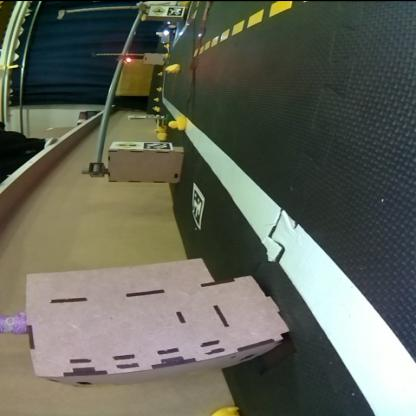Duckie: (209, 406, 240, 415), (167, 116, 185, 130), (166, 64, 180, 72), (162, 52, 171, 58), (153, 96, 161, 100), (157, 85, 164, 89), (166, 42, 170, 48)
Intersection sign: (152, 6, 164, 14)
QR code: (192, 182, 204, 229), (143, 144, 169, 148), (168, 7, 182, 14)
Signal sign: (116, 142, 140, 148)
Traffic light: (124, 57, 132, 62)
